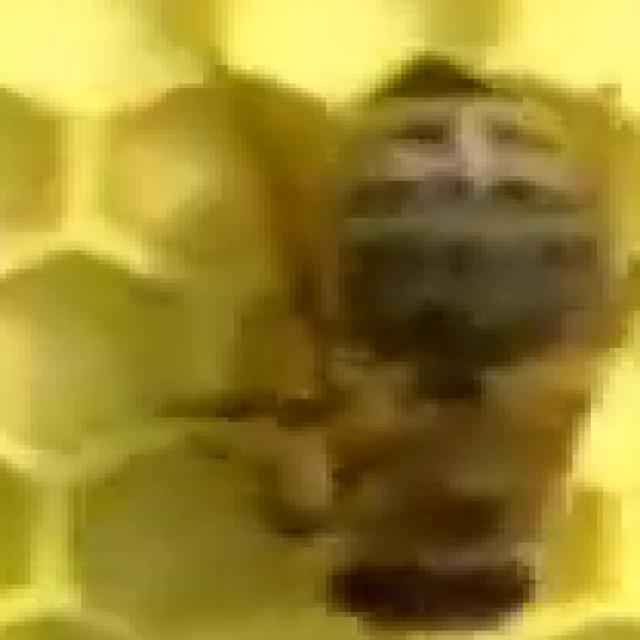honeybee: (204, 45, 594, 598)
